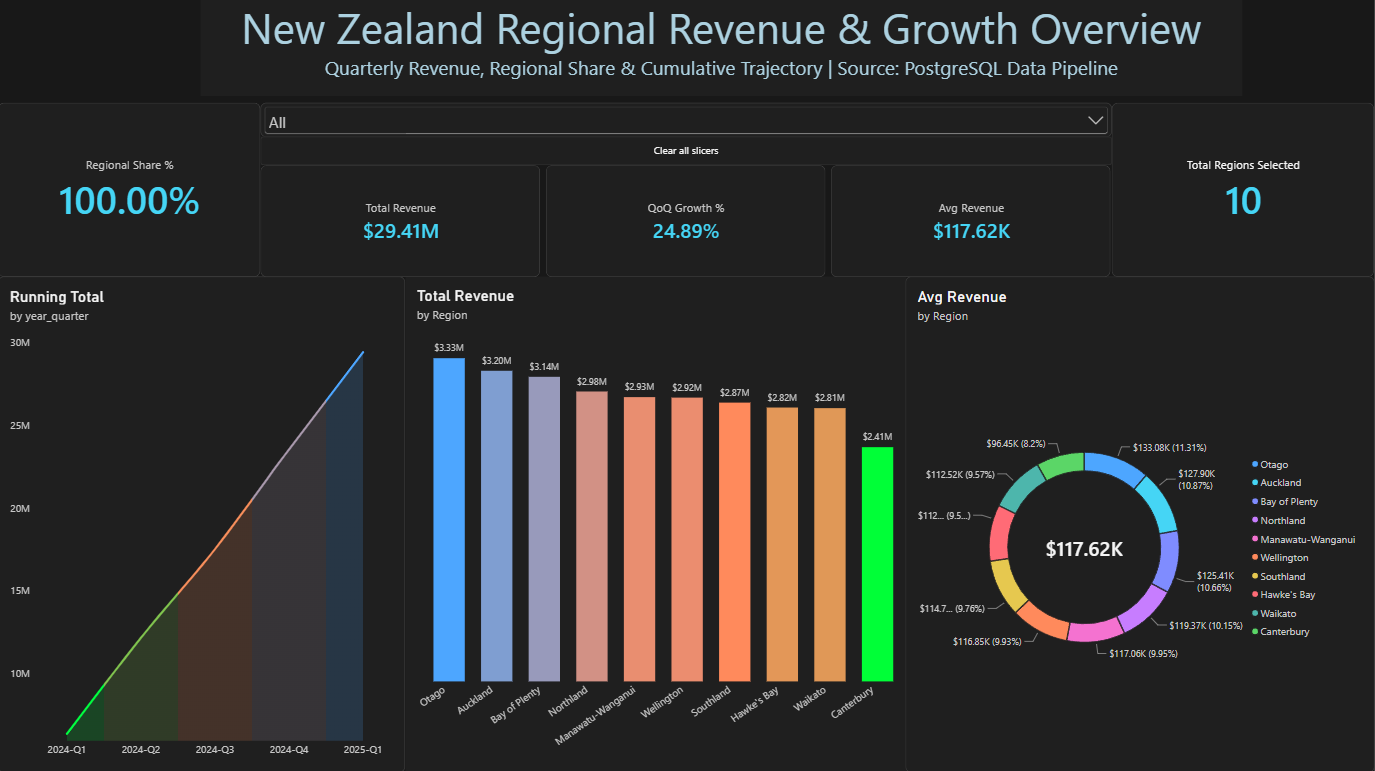

Layout of this report page (visuals, bound fields, positions):
{"tool":"powerbi","page":{"name":"NZ Regional Revenue and Growth Overview","canvas":[1920,1080],"ordinal":0},"visuals":[{"type":"slicer","fields":{"Values":["dim_region.region_name"]},"box":[366,144,1188,48],"z":0},{"type":"actionButton","box":[366,192,1188,40],"z":1},{"type":"cardVisual","fields":{"Data":["fact_regional_metrics.Regional Share %"]},"box":[0,144.8,366.5,243.3],"z":2},{"type":"cardVisual","fields":{"Data":["CountNonNull(dim_region.region_name)"]},"box":[1553.8,144.8,366.5,243.3],"z":3},{"type":"lineChart","fields":{"Category":["fact_regional_metrics.year_quarter"],"Y":["fact_regional_metrics.Running Total"]},"box":[0,388,568,692],"z":4},{"type":"clusteredColumnChart","fields":{"Category":["dim_region.region_name"],"Y":["fact_regional_metrics.Total Revenue"]},"box":[568,388,698,692],"z":5},{"type":"donutChart","fields":{"Category":["dim_region.region_name"],"Y":["fact_regional_metrics.Avg Revenue"]},"box":[1266,388,654,692],"z":6},{"type":"cardVisual","fields":{"Data":["fact_regional_metrics.Total Revenue","fact_regional_metrics.QoQ Growth %","fact_regional_metrics.Avg Revenue"]},"box":[366,232,1188,156],"z":7},{"type":"textbox","box":[283.4,0,1453.7,135.5],"z":8}]}

Visuals, with their boxes in screenshot pixels (x1, y1, x2, y2), scaled from the page's 1920x1080 canvas onto the 1375x771 screenshot:
slicer - dim_region.region_name: {"left": 262, "top": 103, "right": 1113, "bottom": 137}
actionButton: {"left": 262, "top": 137, "right": 1113, "bottom": 166}
cardVisual - fact_regional_metrics.Regional Share %: {"left": 0, "top": 103, "right": 262, "bottom": 277}
cardVisual - CountNonNull(dim_region.region_name): {"left": 1113, "top": 103, "right": 1374, "bottom": 277}
lineChart - fact_regional_metrics.year_quarter x fact_regional_metrics.Running Total: {"left": 0, "top": 277, "right": 407, "bottom": 770}
clusteredColumnChart - dim_region.region_name x fact_regional_metrics.Total Revenue: {"left": 407, "top": 277, "right": 907, "bottom": 770}
donutChart - dim_region.region_name x fact_regional_metrics.Avg Revenue: {"left": 907, "top": 277, "right": 1374, "bottom": 770}
cardVisual - fact_regional_metrics.Total Revenue x fact_regional_metrics.QoQ Growth %: {"left": 262, "top": 166, "right": 1113, "bottom": 277}
textbox: {"left": 203, "top": 0, "right": 1244, "bottom": 97}
